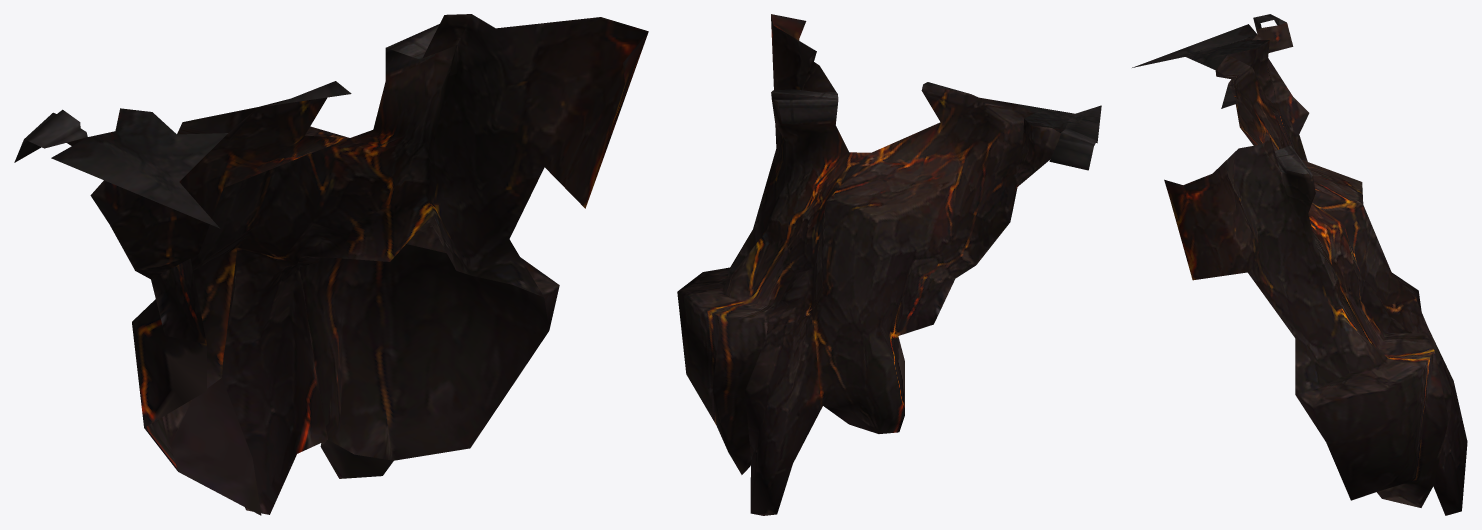
The model's file is S2_Build_XSC106_L4.FBX.
3 views of the same model, side by side, from view 1: azimuth 30°, elevation 25°; view 2: azimuth 150°, elevation 25°; view 3: azimuth 270°, elevation 25° (orthographic). The views are drawn at different scales.
Parts seen in each view (by area): view 1: S2_Build_XSC106_L4; view 2: S2_Build_XSC106_L4; view 3: S2_Build_XSC106_L4.
Part boxes in pixels (x1,y1,x2,y2): S2_Build_XSC106_L4: (14, 14, 648, 515); S2_Build_XSC106_L4: (677, 14, 1101, 515); S2_Build_XSC106_L4: (1132, 14, 1467, 515).
Bounding box in the file's own units: 4333 × 4270 × 3308.
